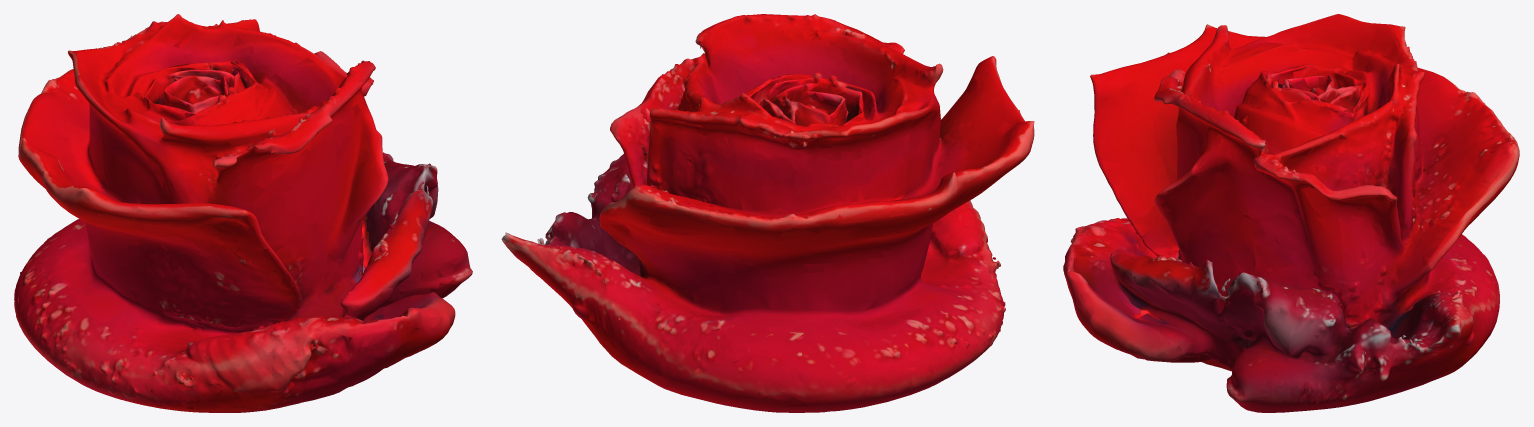
The model's file is RedRose.glb.
3 renders of one model, left to right at view 1: azimuth 30°, elevation 25°; view 2: azimuth 150°, elevation 25°; view 3: azimuth 270°, elevation 25°, orthographic. The views are drawn at different scales.
Parts seen in each view (by area): view 1: tripo_node_4e74a828; view 2: tripo_node_4e74a828; view 3: tripo_node_4e74a828.
Part boxes in pixels (left/top/right/bottom): tripo_node_4e74a828: left=14, top=14, right=472, bottom=412; tripo_node_4e74a828: left=501, top=14, right=1034, bottom=412; tripo_node_4e74a828: left=1063, top=14, right=1519, bottom=412.
Size of the model in its own units: 2.99 by 1.98 by 2.92.
Materials: 1 (1 with a texture image).
